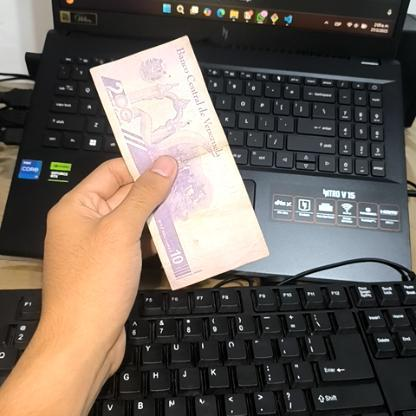vef_back: (89, 35, 272, 292)
